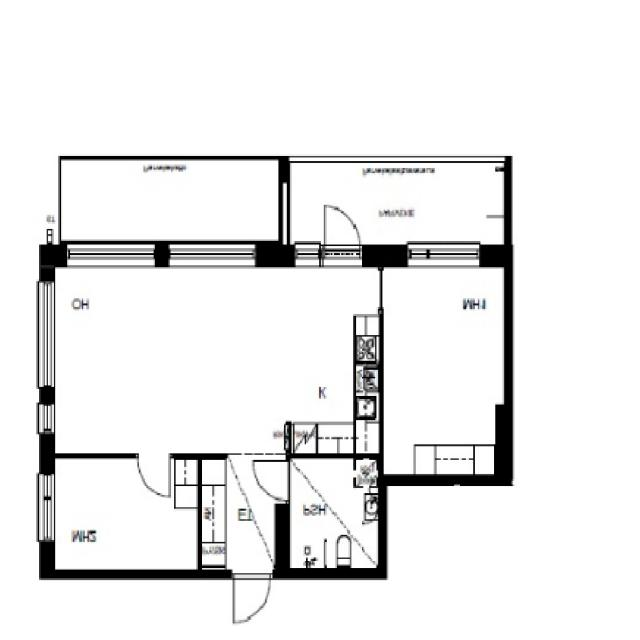door: (324, 202, 360, 266), (234, 570, 270, 621), (253, 461, 290, 500), (139, 453, 170, 495)
